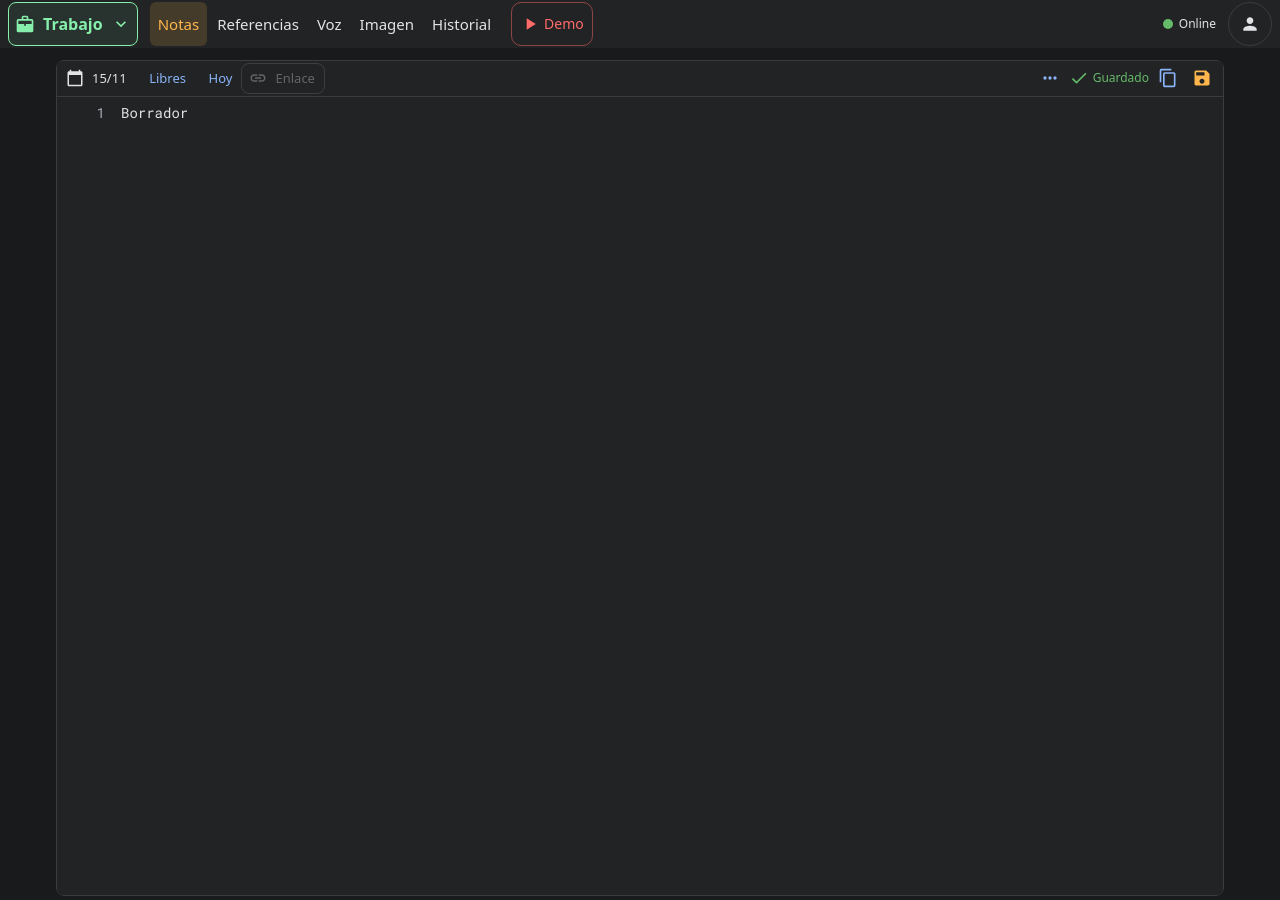
Textos guardados › conserva la fila al fallar el borrado y enfoca el encabezado después de reintentar
Expected: the field named "Editor de nota diaria" reads "Borrador", [121,103,188,122]
Click the link "Imagen" at (387, 24), box [360,14,414,34]
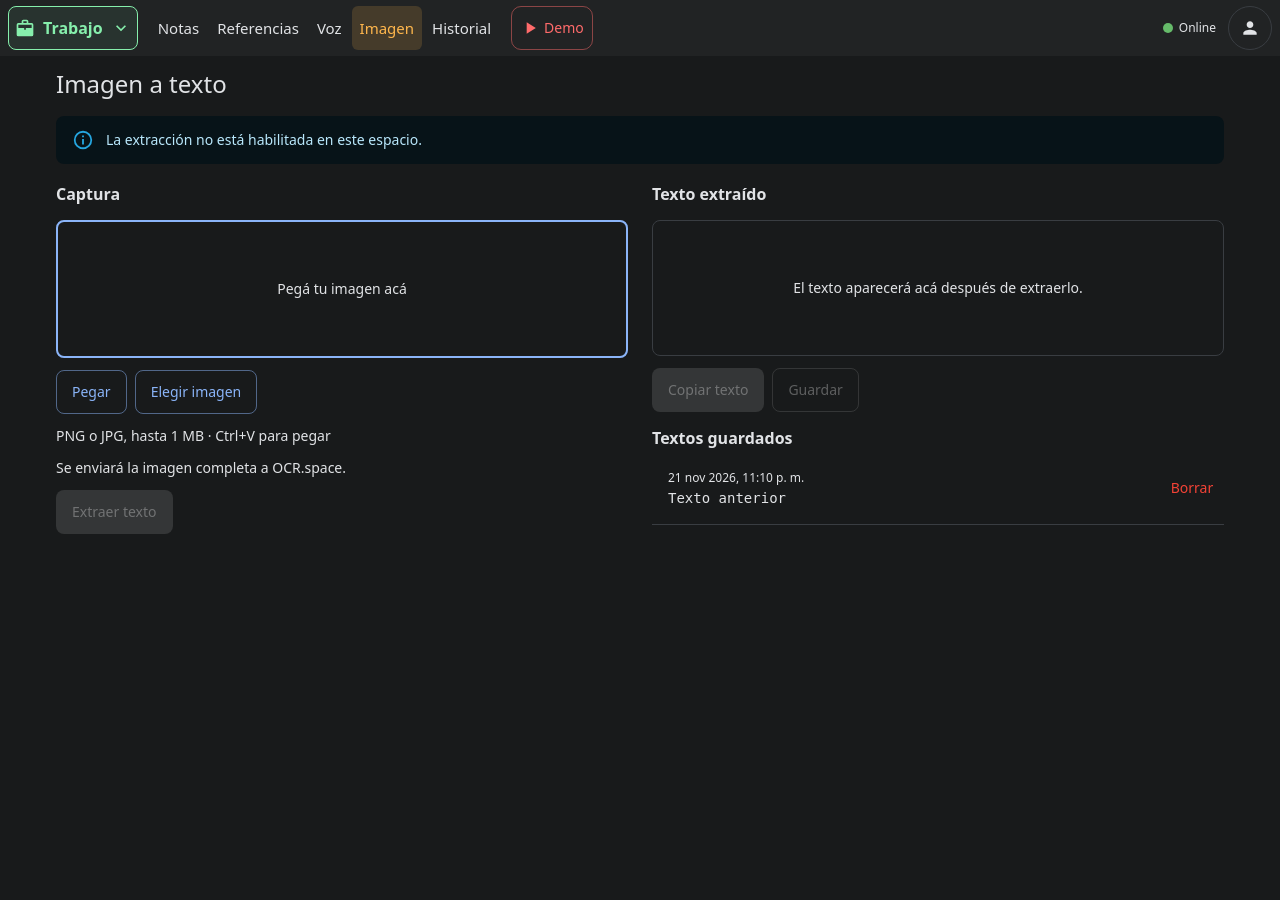
Result: the heading "Imagen a texto" is shown at [56,67,227,100]
Click the button with aria-label "Borrar Texto anterior" at (1192, 488), box [1160,466,1224,510]
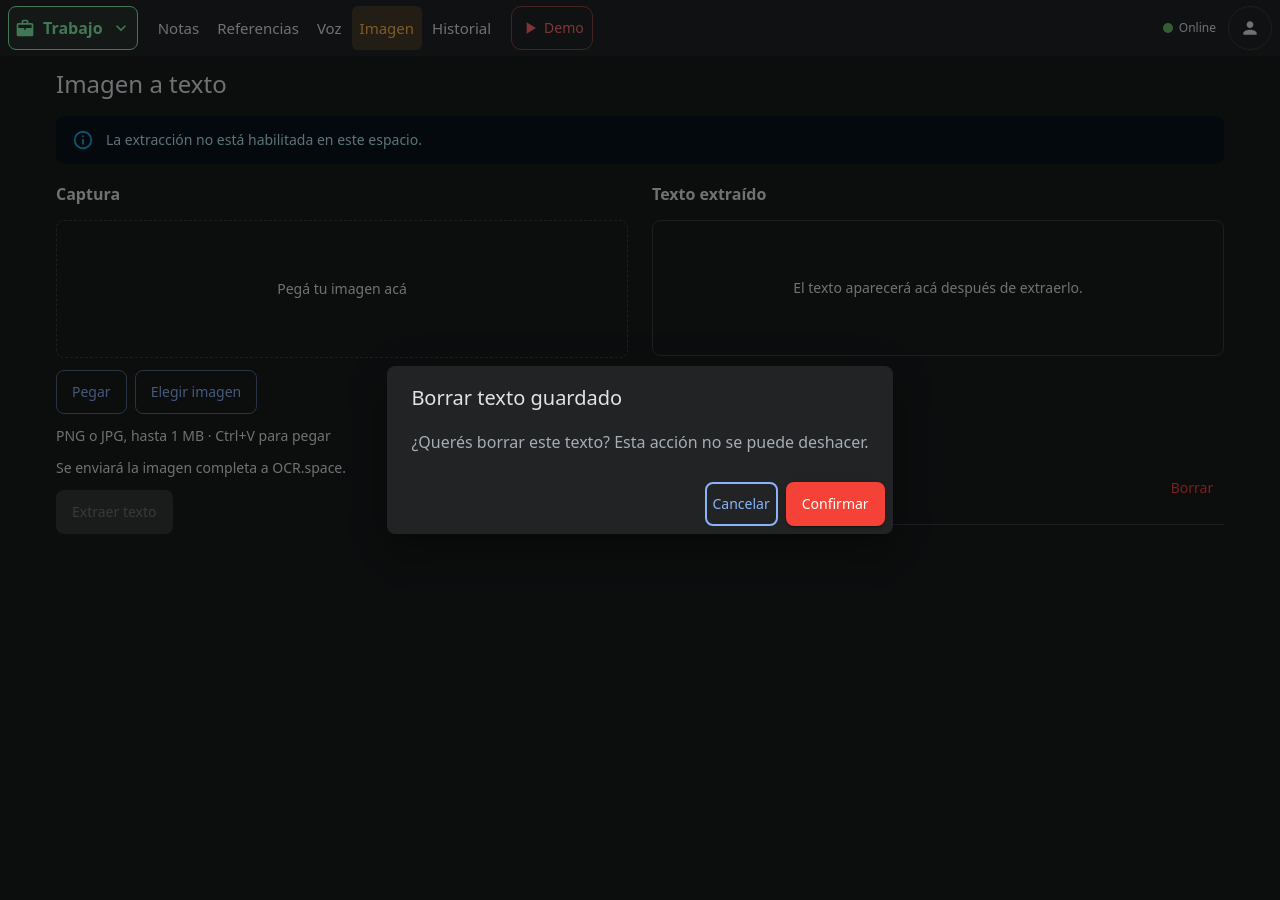
Click the button "Confirmar" at (835, 504), box [786,482,885,526]
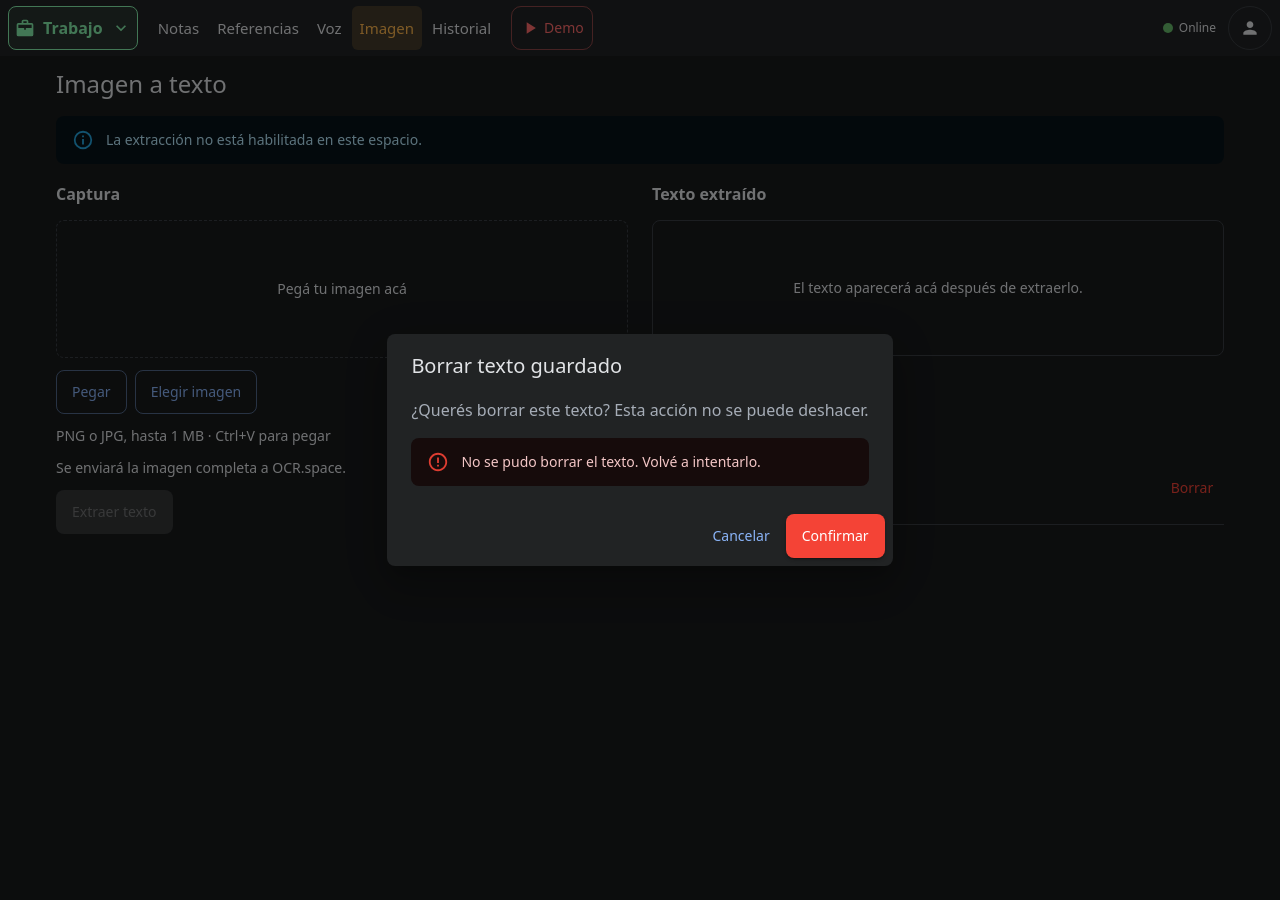
Result: the button with aria-label "Borrar Texto anterior" is shown at [1160,466,1224,510]
Result: the message shows "No se pudo borrar el texto" at [461,452,761,471]
Click the button "Confirmar" at (835, 536), box [786,514,885,558]
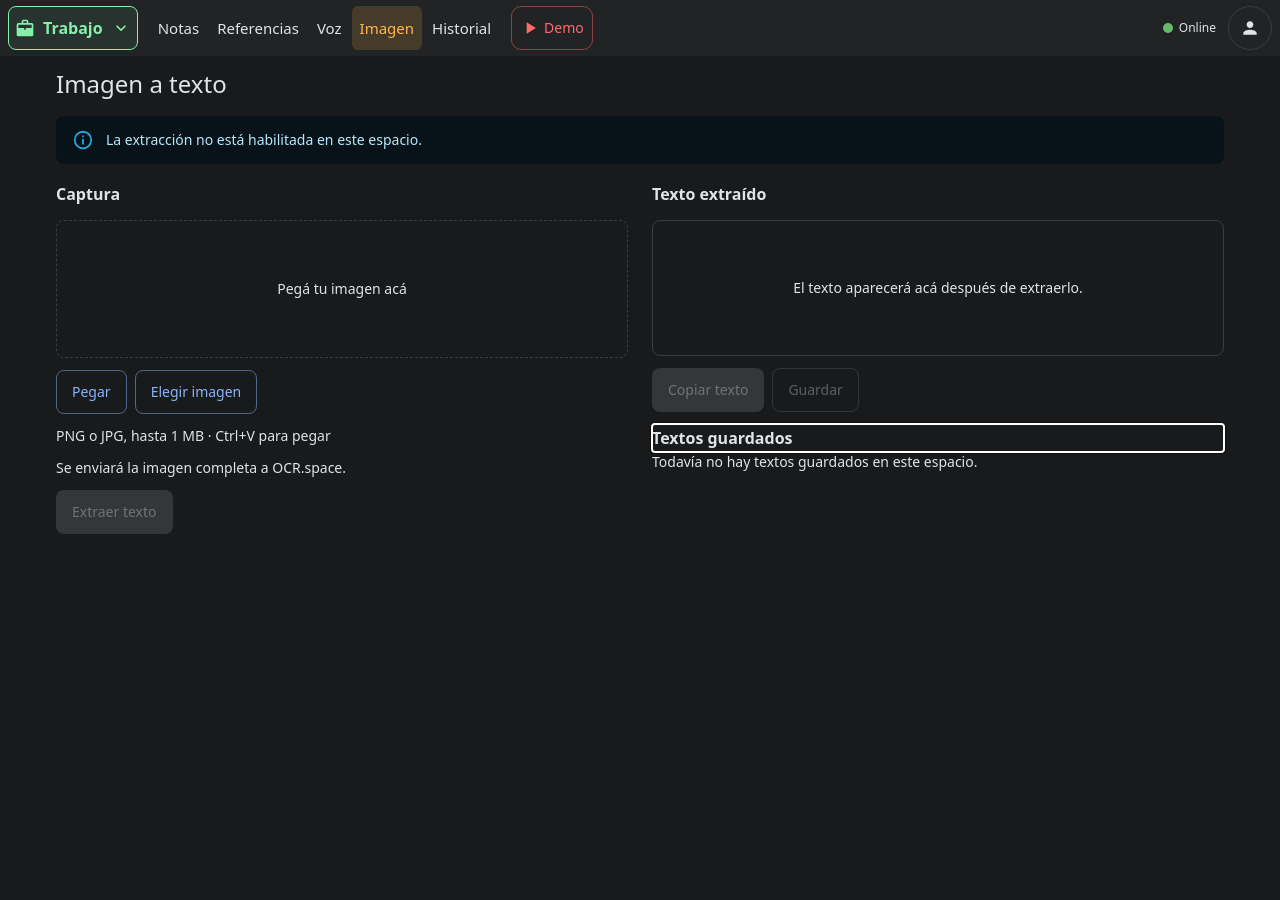
Result: the text "Todavía no hay textos guardados en este espacio." is shown at [652,452,978,471]
